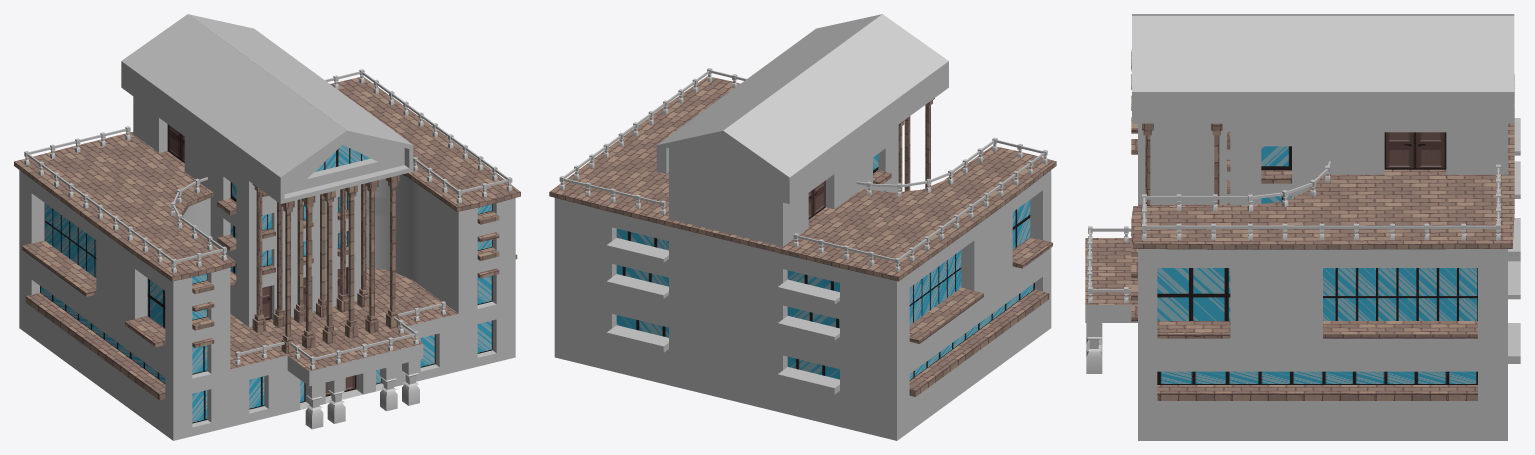
File: BuildingCity.fbx
3 renders of one model, left to right at view 1: azimuth 30°, elevation 25°; view 2: azimuth 150°, elevation 25°; view 3: azimuth 270°, elevation 25°, orthographic. The views are drawn at different scales.
Visible parts, largest first — view 1: Cube.027; view 2: Cube.027; view 3: Cube.027.
Boxes of the visible parts, x1,y1,x2,y2 form: Cube.027: (14, 14, 520, 440); Cube.027: (549, 14, 1056, 440); Cube.027: (1085, 14, 1520, 440).
Bounding box in the file's own units: 43.87 × 31.48 × 38.02.
